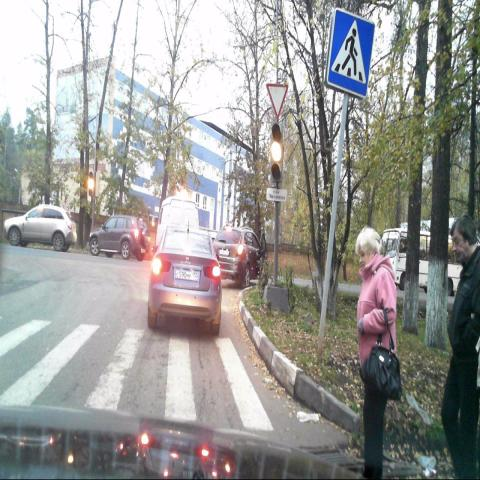2_4: (267, 84, 288, 121)
5_19_1: (326, 10, 374, 98)
